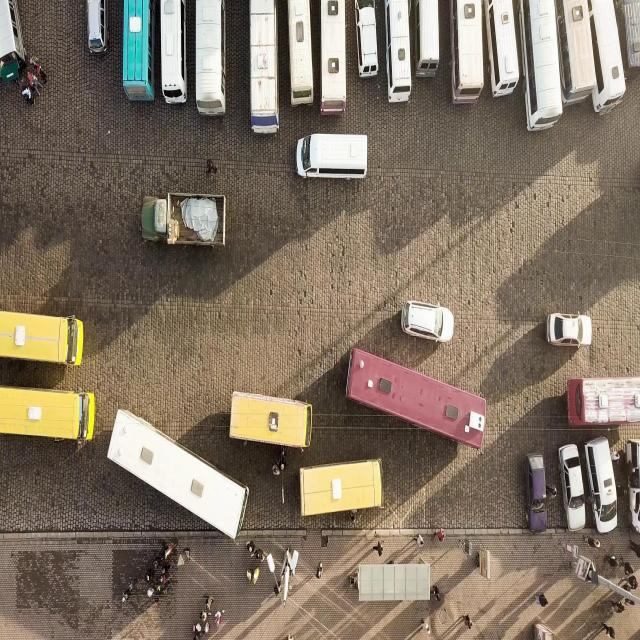Bus: (108, 410, 253, 540), (345, 347, 486, 450), (518, 0, 562, 132), (0, 386, 96, 444), (228, 390, 312, 452), (299, 458, 384, 517), (0, 310, 84, 368), (585, 0, 626, 117), (554, 0, 596, 109), (249, 0, 280, 135), (565, 375, 640, 428), (194, 0, 227, 120), (484, 0, 520, 100), (450, 0, 484, 104), (122, 0, 156, 103), (295, 134, 367, 181), (159, 0, 188, 104), (320, 0, 346, 114), (287, 0, 313, 110), (384, 0, 410, 101), (0, 1, 27, 83), (414, 1, 440, 78), (621, 0, 640, 79)
Car: (558, 444, 586, 532), (352, 0, 378, 79), (524, 451, 548, 531), (86, 0, 111, 57)
Truck: (141, 190, 227, 248)
Van: (583, 434, 618, 534), (625, 437, 640, 535)
